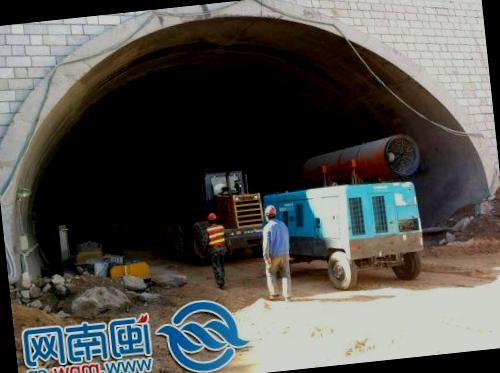person: (251, 200, 302, 304), (194, 210, 238, 292)
